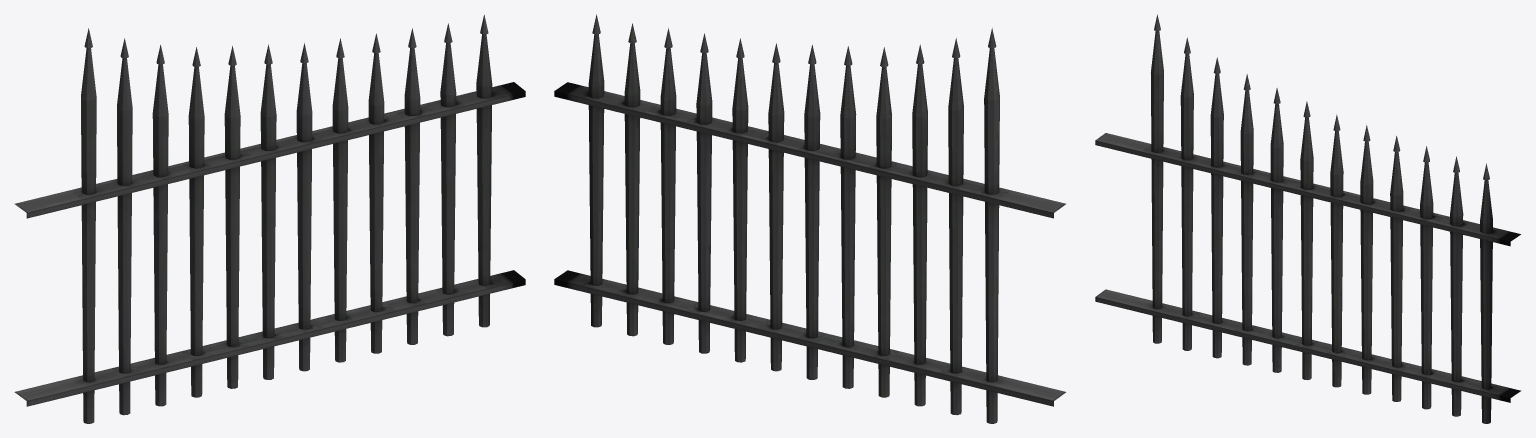
3 views of the same model, side by side, from view 1: azimuth 30°, elevation 25°; view 2: azimuth 150°, elevation 25°; view 3: azimuth 330°, elevation 25° (orthographic). The views are drawn at different scales.
Parts seen in each view (by area): view 1: body0_model0_lod0_mesh0; view 2: body0_model0_lod0_mesh0; view 3: body0_model0_lod0_mesh0.
Boxes of the visible parts, left/top/right/bottom form: body0_model0_lod0_mesh0: left=14, top=15, right=525, bottom=423; body0_model0_lod0_mesh0: left=554, top=14, right=1065, bottom=423; body0_model0_lod0_mesh0: left=1095, top=14, right=1521, bottom=423.
Bounding box in the file's own units: 139 × 105 × 6.01.
Materials: 1 (1 with a texture image).
